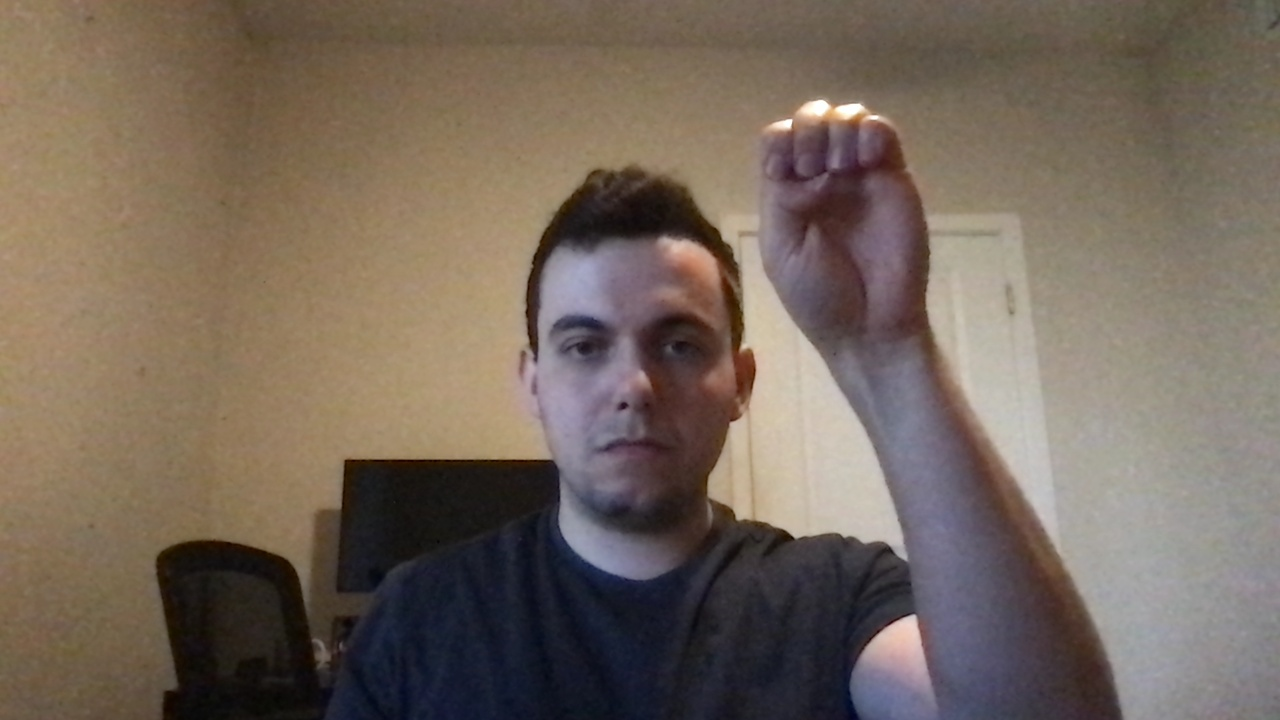e: (734, 92, 954, 348)
